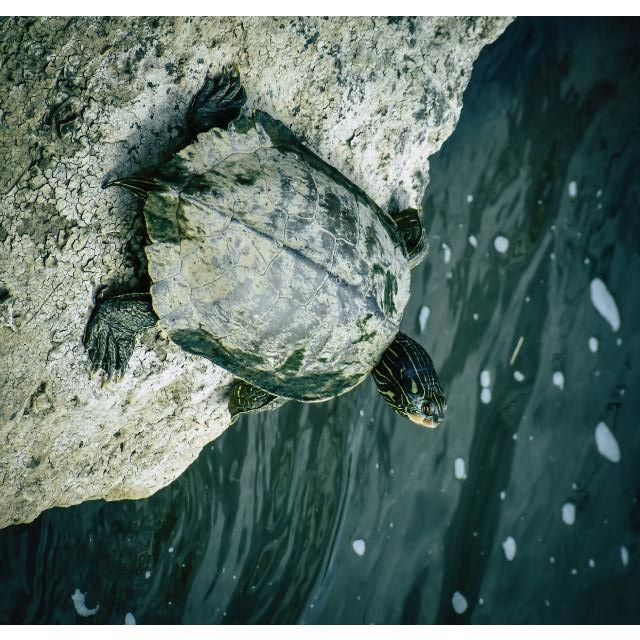turtle: (82, 64, 450, 430)
